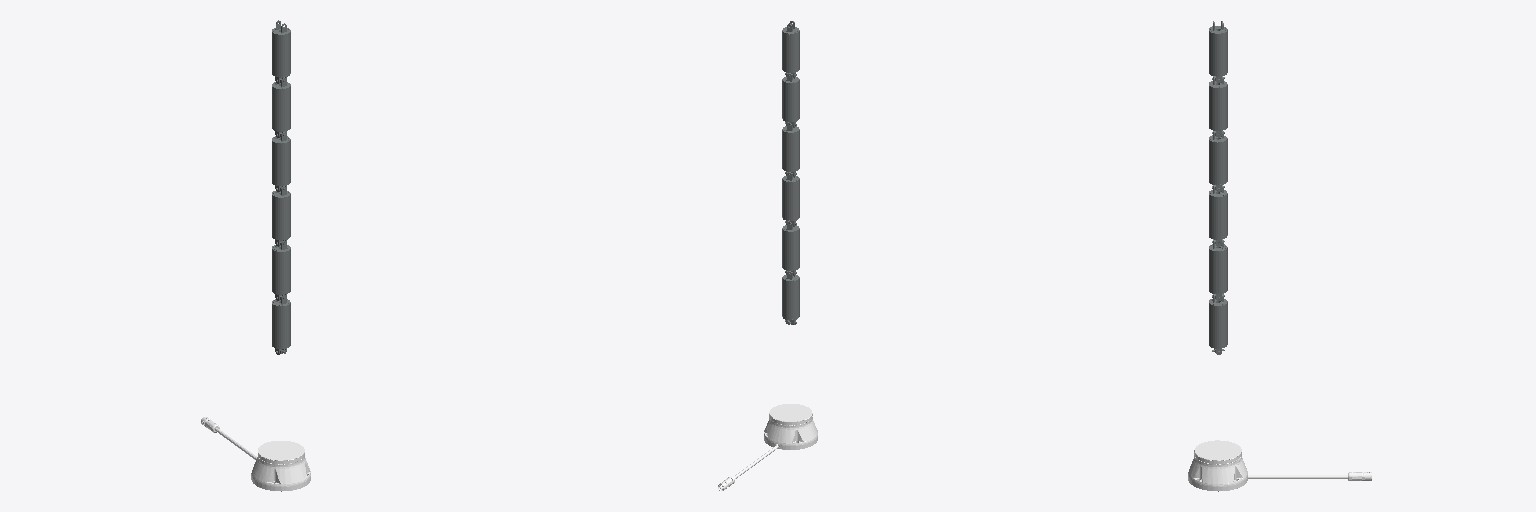
robot.urdf — snakearm1202:
<?xml version="1.0" encoding="utf-8"?>
<!-- This URDF was automatically created by SolidWorks to URDF Exporter! Originally created by Stephen Brawner ([email redacted]) 
     Commit Version: 1.6.0-1-g15f4949  Build Version: 1.6.7594.29634
     For more information, please see http://wiki.ros.org/sw_urdf_exporter -->
<robot
  name="snakearm1202">
  <link
    name="base_link">
    <inertial>
      <origin
        xyz="-0.026719 0.0046387 0.21828"
        rpy="0 0 0" />
      <mass
        value="2.2871" />
      <inertia
        ixx="0.024823"
        ixy="3.8379E-06"
        ixz="5.6214E-07"
        iyy="0.024834"
        iyz="-2.4017E-07"
        izz="0.024839" />
    </inertial>
    <visual>
      <origin
        xyz="0 0 0"
        rpy="0 0 0" />
      <geometry>
        <mesh
          filename="package://snakearm1202/meshes/base_link.STL" />
      </geometry>
      <material
        name="">
        <color
          rgba="1 1 1 1" />
      </material>
    </visual>
    <collision>
      <origin
        xyz="0 0 0"
        rpy="0 0 0" />
      <geometry>
        <mesh
          filename="package://snakearm1202/meshes/base_link.STL" />
      </geometry>
    </collision>
  </link>
  <link
    name="shoulder_Link">
    <inertial>
      <origin
        xyz="-1.4706E-15 0.069309 -9.623E-17"
        rpy="0 0 0" />
      <mass
        value="1.0357" />
      <inertia
        ixx="0.0029447"
        ixy="1.0615E-17"
        ixz="0"
        iyy="0.00053469"
        iyz="-7.9636E-18"
        izz="0.0029447" />
    </inertial>
    <visual>
      <origin
        xyz="0 0 0"
        rpy="0 0 0" />
      <geometry>
        <mesh
          filename="package://snakearm1202/meshes/shoulder_Link.STL" />
      </geometry>
      <material
        name="">
        <color
          rgba="0.52941 0.54902 0.54902 1" />
      </material>
    </visual>
    <collision>
      <origin
        xyz="0 0 0"
        rpy="0 0 0" />
      <geometry>
        <mesh
          filename="package://snakearm1202/meshes/shoulder_Link.STL" />
      </geometry>
    </collision>
  </link>
  <joint
    name="shoulder_joint"
    type="revolute">
    <origin
      xyz="0 0 0.471"
      rpy="1.5708 0 0.091878" />
    <parent
      link="base_link" />
    <child
      link="shoulder_Link" />
    <axis
      xyz="0.082561 0 0.99659" />
    <limit
      lower="-3.14"
      upper="3.14"
      effort="100"
      velocity="1" />
  </joint>
  <link
    name="upperArm_Link">
    <inertial>
      <origin
        xyz="-0.074691 -2.8566E-15 -1.4486E-15"
        rpy="0 0 0" />
      <mass
        value="1.0357" />
      <inertia
        ixx="0.00053469"
        ixy="-8.6139E-18"
        ixz="1.2443E-17"
        iyy="0.0029447"
        iyz="0"
        izz="0.0029447" />
    </inertial>
    <visual>
      <origin
        xyz="0 0 0"
        rpy="0 0 0" />
      <geometry>
        <mesh
          filename="package://snakearm1202/meshes/upperArm_Link.STL" />
      </geometry>
      <material
        name="">
        <color
          rgba="0.52941 0.54902 0.54902 1" />
      </material>
    </visual>
    <collision>
      <origin
        xyz="0 0 0"
        rpy="0 0 0" />
      <geometry>
        <mesh
          filename="package://snakearm1202/meshes/upperArm_Link.STL" />
      </geometry>
    </collision>
  </link>
  <joint
    name="upperArm_joint"
    type="revolute">
    <origin
      xyz="0 0.334 0"
      rpy="1.6535 0 1.5708" />
    <parent
      link="shoulder_Link" />
    <child
      link="upperArm_Link" />
    <axis
      xyz="0 1 0" />
    <limit
      lower="-3.14"
      upper="3.14"
      effort="100"
      velocity="1" />
  </joint>
  <link
    name="foreArm_Link">
    <inertial>
      <origin
        xyz="-1.7204E-15 0.069309 -2.7107E-15"
        rpy="0 0 0" />
      <mass
        value="1.0357" />
      <inertia
        ixx="0.0029447"
        ixy="4.376E-18"
        ixz="-1.3553E-20"
        iyy="0.00053469"
        iyz="-1.2824E-17"
        izz="0.0029447" />
    </inertial>
    <visual>
      <origin
        xyz="0 0 0"
        rpy="0 0 0" />
      <geometry>
        <mesh
          filename="package://snakearm1202/meshes/foreArm_Link.STL" />
      </geometry>
      <material
        name="">
        <color
          rgba="0.52941 0.54902 0.54902 1" />
      </material>
    </visual>
    <collision>
      <origin
        xyz="0 0 0"
        rpy="0 0 0" />
      <geometry>
        <mesh
          filename="package://snakearm1202/meshes/foreArm_Link.STL" />
      </geometry>
    </collision>
  </link>
  <joint
    name="foreArm_joint"
    type="revolute">
    <origin
      xyz="0.046 0 0"
      rpy="-3.1416 -1.4317 1.5708" />
    <parent
      link="upperArm_Link" />
    <child
      link="foreArm_Link" />
    <axis
      xyz="0.13868 0 0.99034" />
    <limit
      lower="-3.14"
      upper="3.14"
      effort="100"
      velocity="1" />
  </joint>
  <link
    name="wrist1_Link">
    <inertial>
      <origin
        xyz="1.19874504047724E-15 0.0693094578161286 2.80109135348087E-15"
        rpy="0 0 0" />
      <mass
        value="1.03570905401301" />
      <inertia
        ixx="0.0029446513483554"
        ixy="-1.18061998586467E-17"
        ixz="0"
        iyy="0.000534693140230074"
        iyz="6.09272003681866E-18"
        izz="0.0029446513483554" />
    </inertial>
    <visual>
      <origin
        xyz="0 0 0"
        rpy="0 0 0" />
      <geometry>
        <mesh
          filename="package://snakearm1202/meshes/wrist1_Link.STL" />
      </geometry>
      <material
        name="">
        <color
          rgba="0.529411764705882 0.549019607843137 0.549019607843137 1" />
      </material>
    </visual>
    <collision>
      <origin
        xyz="0 0 0"
        rpy="0 0 0" />
      <geometry>
        <mesh
          filename="package://snakearm1202/meshes/wrist1_Link.STL" />
      </geometry>
    </collision>
  </link>
  <joint
    name="wrist1_joint"
    type="revolute">
    <origin
      xyz="0 0.19 0"
      rpy="-3.1416 -0.26981 3.1416" />
    <parent
      link="foreArm_Link" />
    <child
      link="wrist1_Link" />
    <axis
      xyz="0.13031 0 -0.99147" />
    <limit
      lower="-3.14"
      upper="3.14"
      effort="100"
      velocity="1" />
  </joint>
  <link
    name="wrist2_Link">
    <inertial>
      <origin
        xyz="-2.6795E-15 0.069309 -1.3589E-15"
        rpy="0 0 0" />
      <mass
        value="1.0357" />
      <inertia
        ixx="0.0029447"
        ixy="-5.6846E-18"
        ixz="0"
        iyy="0.00053469"
        iyz="1.0086E-17"
        izz="0.0029447" />
    </inertial>
    <visual>
      <origin
        xyz="0 0 0"
        rpy="0 0 0" />
      <geometry>
        <mesh
          filename="package://snakearm1202/meshes/wrist2_Link.STL" />
      </geometry>
      <material
        name="">
        <color
          rgba="0.52941 0.54902 0.54902 1" />
      </material>
    </visual>
    <collision>
      <origin
        xyz="0 0 0"
        rpy="0 0 0" />
      <geometry>
        <mesh
          filename="package://snakearm1202/meshes/wrist2_Link.STL" />
      </geometry>
    </collision>
  </link>
  <joint
    name="wrist2_joint"
    type="revolute">
    <origin
      xyz="0 0.19 0"
      rpy="-3.1416 0.81759 -3.1416" />
    <parent
      link="wrist1_Link" />
    <child
      link="wrist2_Link" />
    <axis
      xyz="0.63415 0 0.77321" />
    <limit
      lower="-3.14"
      upper="3.14"
      effort="100"
      velocity="1" />
  </joint>
  <link
    name="wrist3_Link">
    <inertial>
      <origin
        xyz="-1.6586E-15 0.069309 2.6631E-15"
        rpy="0 0 0" />
      <mass
        value="1.0357" />
      <inertia
        ixx="0.0029447"
        ixy="-1.2228E-17"
        ixz="0"
        iyy="0.00053469"
        iyz="-7.3768E-19"
        izz="0.0029447" />
    </inertial>
    <visual>
      <origin
        xyz="0 0 0"
        rpy="0 0 0" />
      <geometry>
        <mesh
          filename="package://snakearm1202/meshes/wrist3_Link.STL" />
      </geometry>
      <material
        name="">
        <color
          rgba="0.52941 0.54902 0.54902 1" />
      </material>
    </visual>
    <collision>
      <origin
        xyz="0 0 0"
        rpy="0 0 0" />
      <geometry>
        <mesh
          filename="package://snakearm1202/meshes/wrist3_Link.STL" />
      </geometry>
    </collision>
  </link>
  <joint
    name="wrist3_joint"
    type="revolute">
    <origin
      xyz="0 0.19 0"
      rpy="0 -1.4247 0" />
    <parent
      link="wrist2_Link" />
    <child
      link="wrist3_Link" />
    <axis
      xyz="0.85728 0 -0.51486" />
    <limit
      lower="-3.14"
      upper="3.14"
      effort="100"
      velocity="1" />
  </joint>
</robot>

--- Render facts (derived) ---
The picture shows the robot from 3 angles, left to right: view 1: azimuth 30°, elevation 25°; view 2: azimuth 150°, elevation 25°; view 3: azimuth 270°, elevation 25°; orthographic projection.
Model snakearm1202 with 7 links and 6 joints (6 revolute), rooted at base_link, posed every joint at zero.
Links seen in each view (by area): view 1: base_link, wrist3_Link, shoulder_Link, upperArm_Link, foreArm_Link, wrist2_Link, wrist1_Link; view 2: base_link, wrist3_Link, shoulder_Link, wrist2_Link, foreArm_Link, upperArm_Link, wrist1_Link; view 3: base_link, wrist3_Link, shoulder_Link, upperArm_Link, wrist2_Link, wrist1_Link, foreArm_Link.
Link boxes in pixels (x1,y1,x2,y2): base_link: (201,417,310,491); wrist3_Link: (272,20,290,83); shoulder_Link: (272,295,290,354); upperArm_Link: (272,241,290,300); foreArm_Link: (272,186,290,246); wrist2_Link: (272,78,290,137); wrist1_Link: (272,132,290,191); base_link: (718,404,817,490); wrist3_Link: (782,21,799,77); shoulder_Link: (782,271,799,324); wrist2_Link: (782,73,799,126); foreArm_Link: (782,172,799,225); upperArm_Link: (782,222,799,275); wrist1_Link: (782,123,799,176); base_link: (1188,440,1371,491); wrist3_Link: (1209,21,1227,82); shoulder_Link: (1209,294,1227,354); upperArm_Link: (1209,239,1227,300); wrist2_Link: (1209,76,1227,137); wrist1_Link: (1209,131,1227,191); foreArm_Link: (1209,185,1227,246).
Bounding box of the posed robot: 0.19 × 0.5815 × 1.6 m (x, y, z).
7 mesh visuals loaded from 7 distinct referenced files (7 binary STL).
